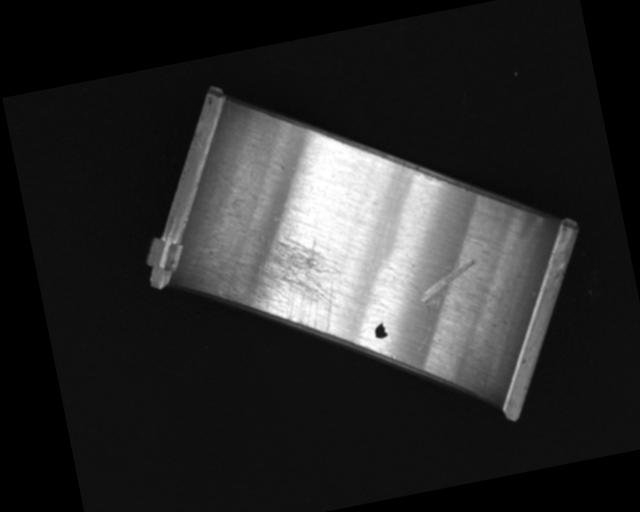blot: (372, 320, 388, 341)
nick: (414, 259, 483, 311), (400, 276, 438, 354)
scratch: (219, 226, 355, 353)
